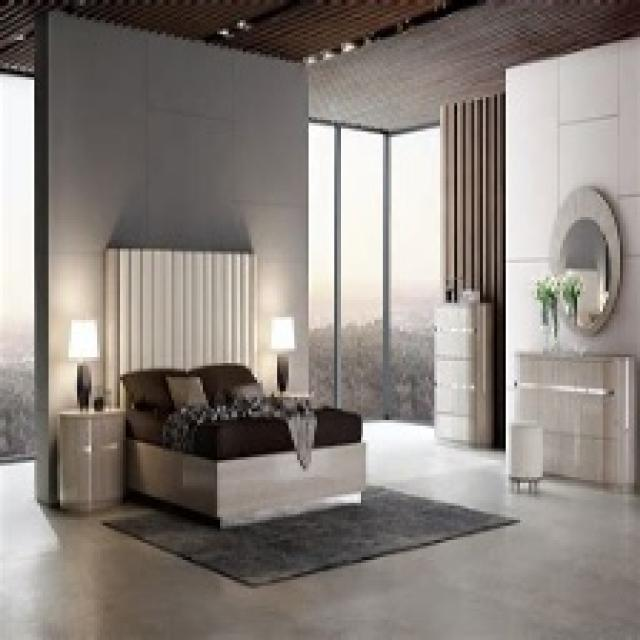Bed: (117, 360, 366, 529)
